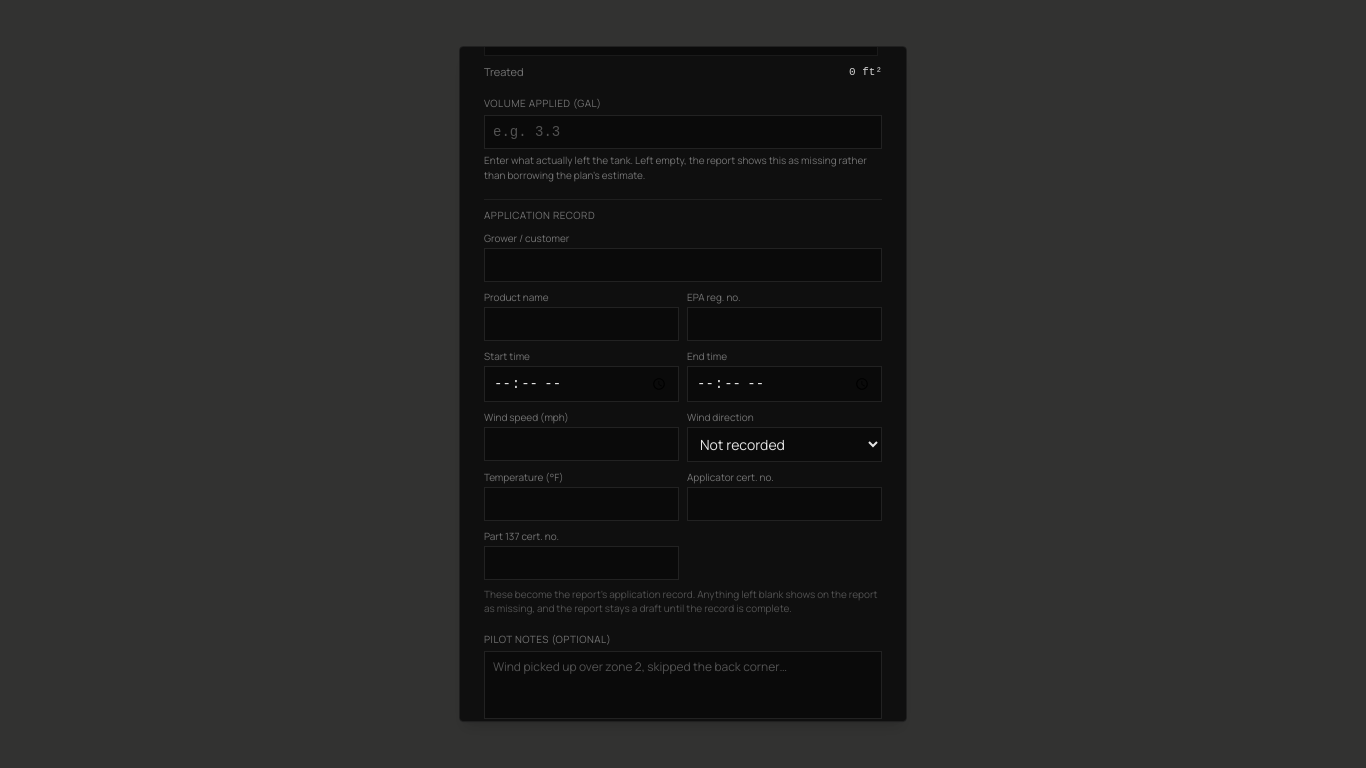
impossible input warns at entry, in the operator's units › an end time before the start time is caught as it is entered
(page scrolled)
Type "16:00" into the time field labelled "Start time" at (582, 384), box [484,366,679,402]
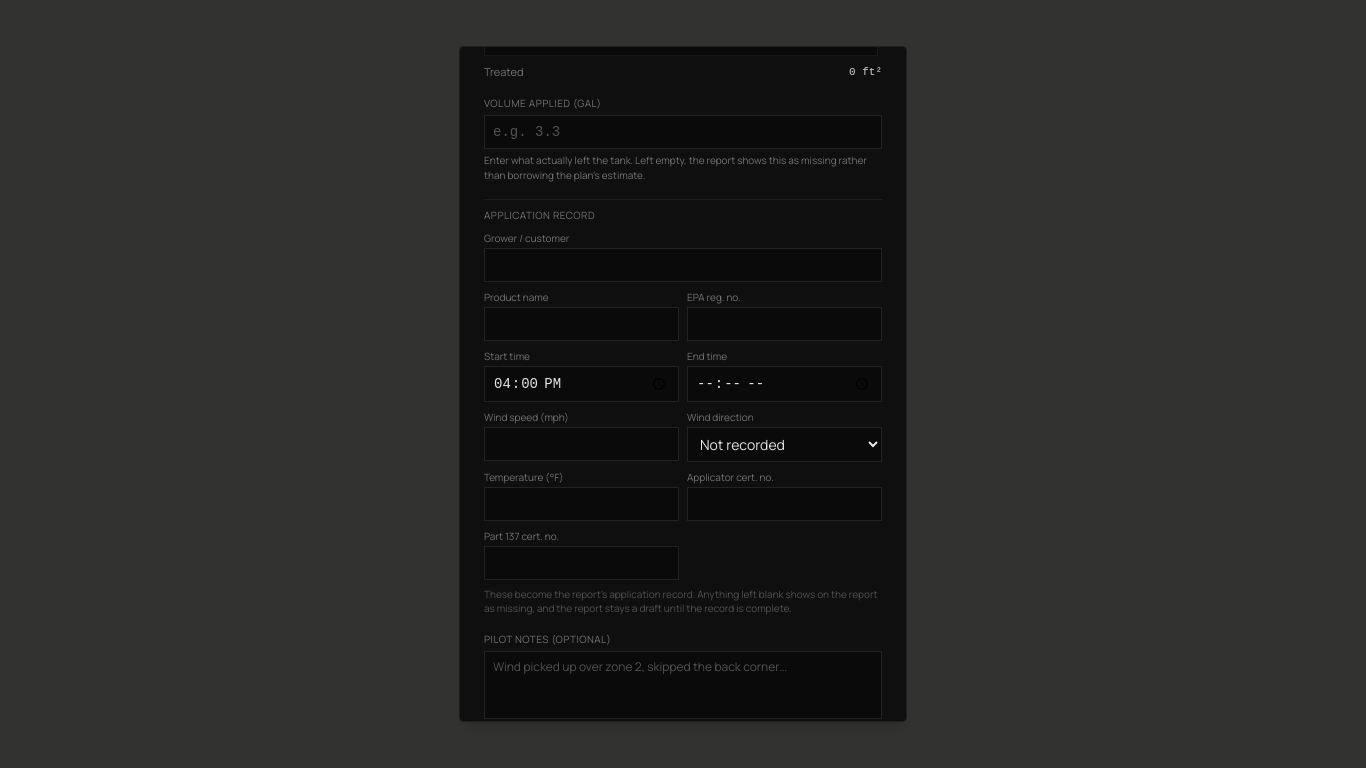
Type "15:30" into the time field labelled "End time" at (784, 384), box [687,366,882,402]
(page scrolled)
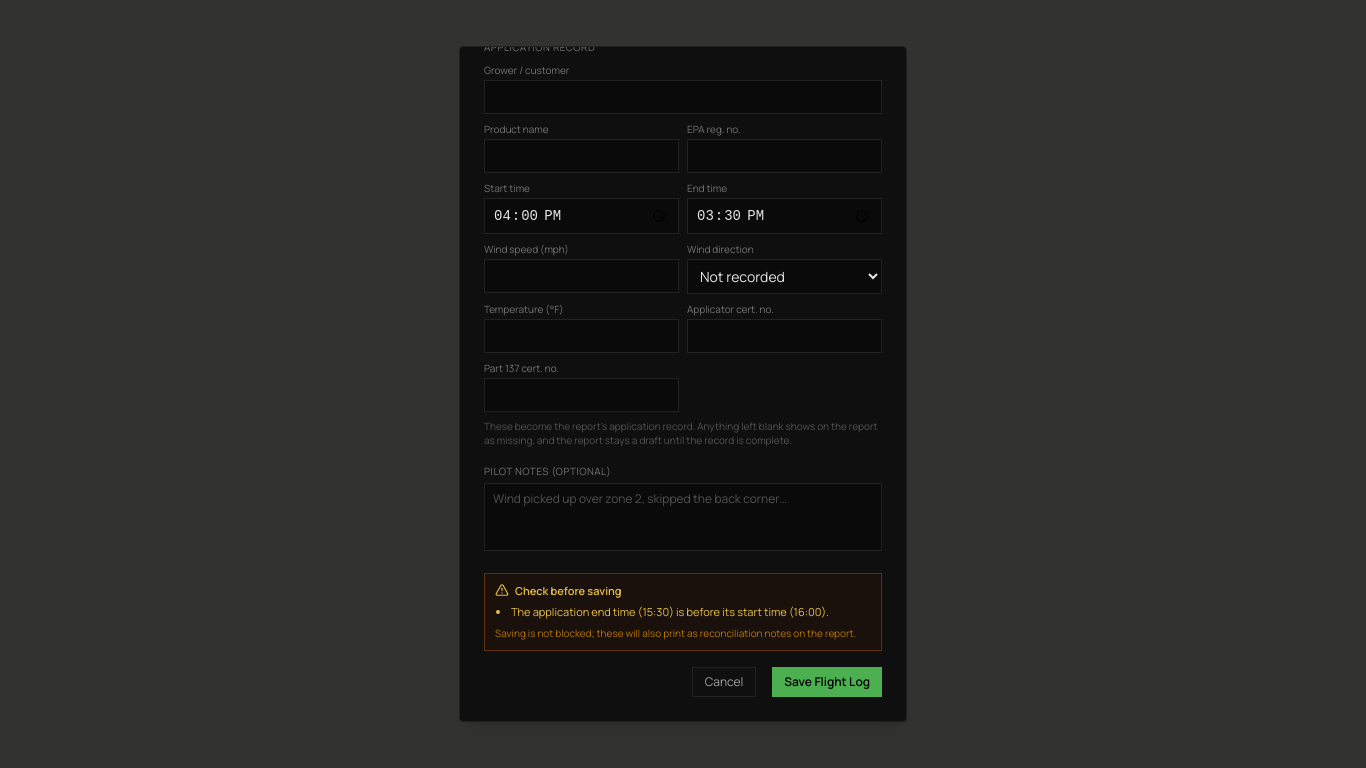
Expected: the list item "before its start time" is shown, [511,604,829,620]
